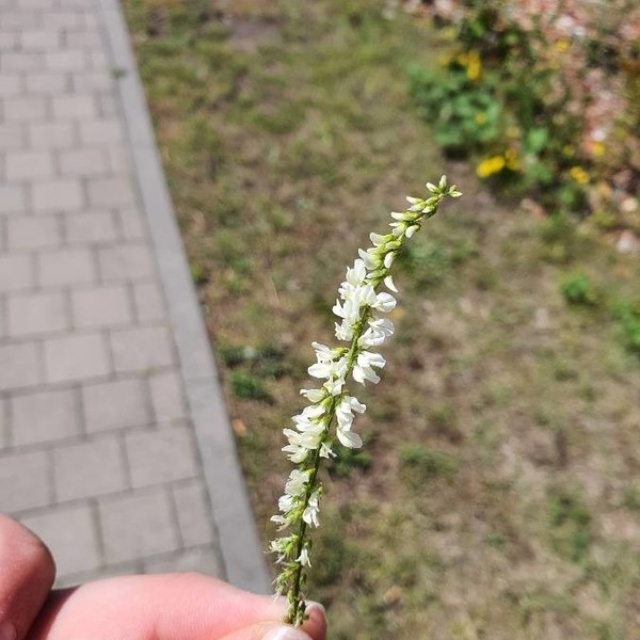obstacle: (277, 185, 400, 612)
